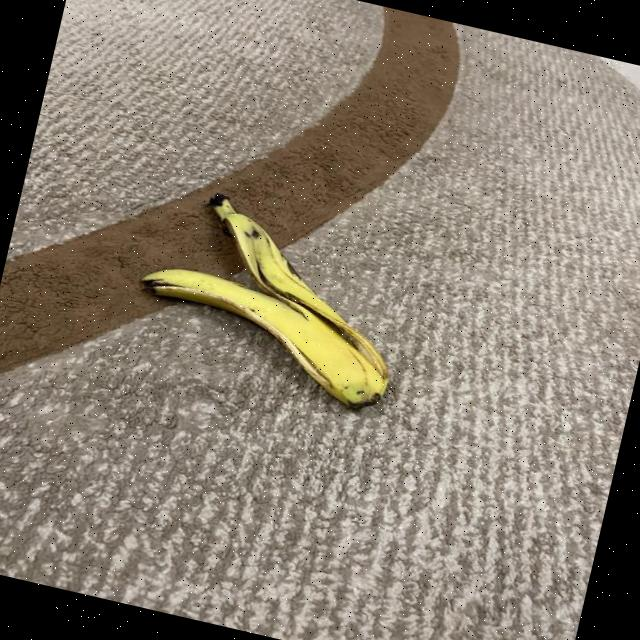banana-peel: (121, 178, 421, 416)
